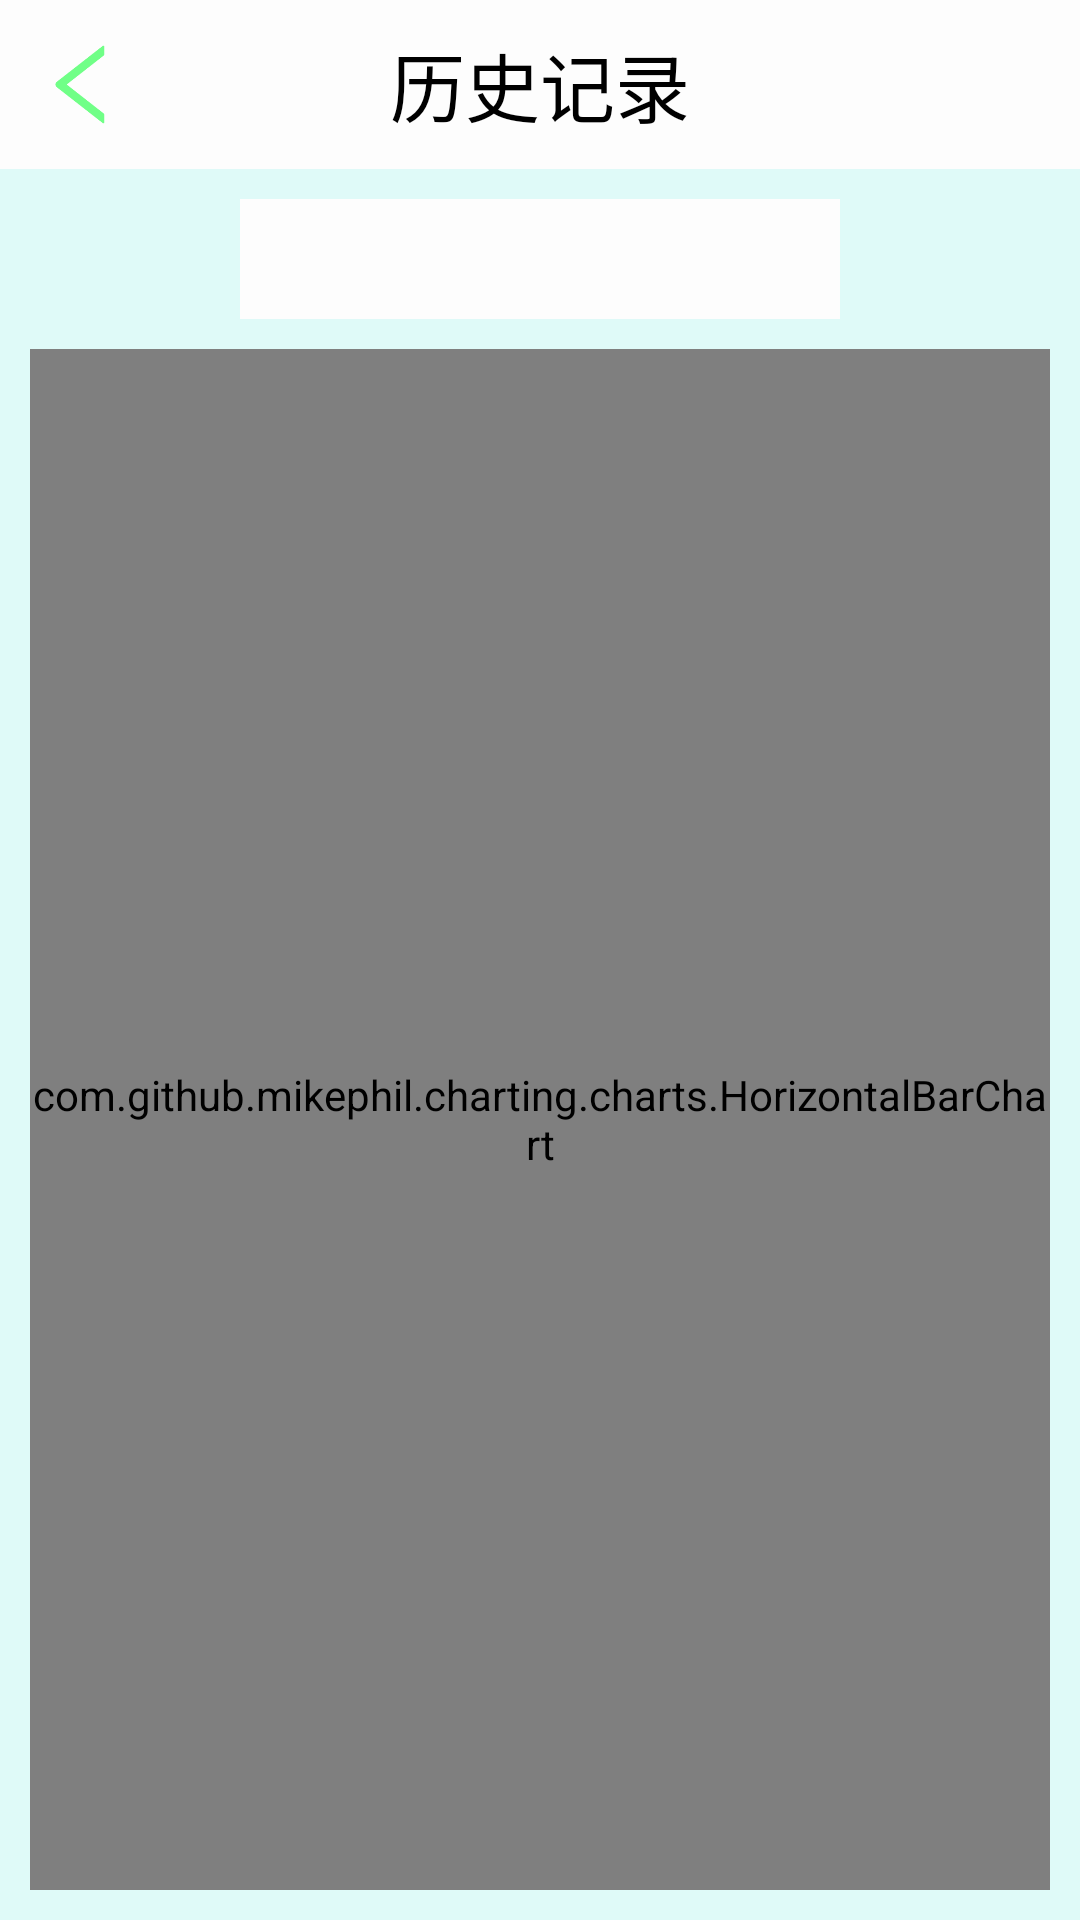

Icon click points for this 1080px×1920px phone screenshot, format (x,y):
back left: (80,84)
